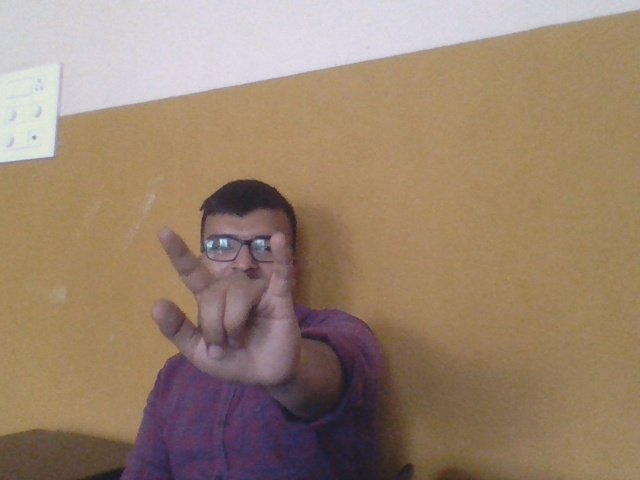I Love You: (147, 219, 309, 398)
